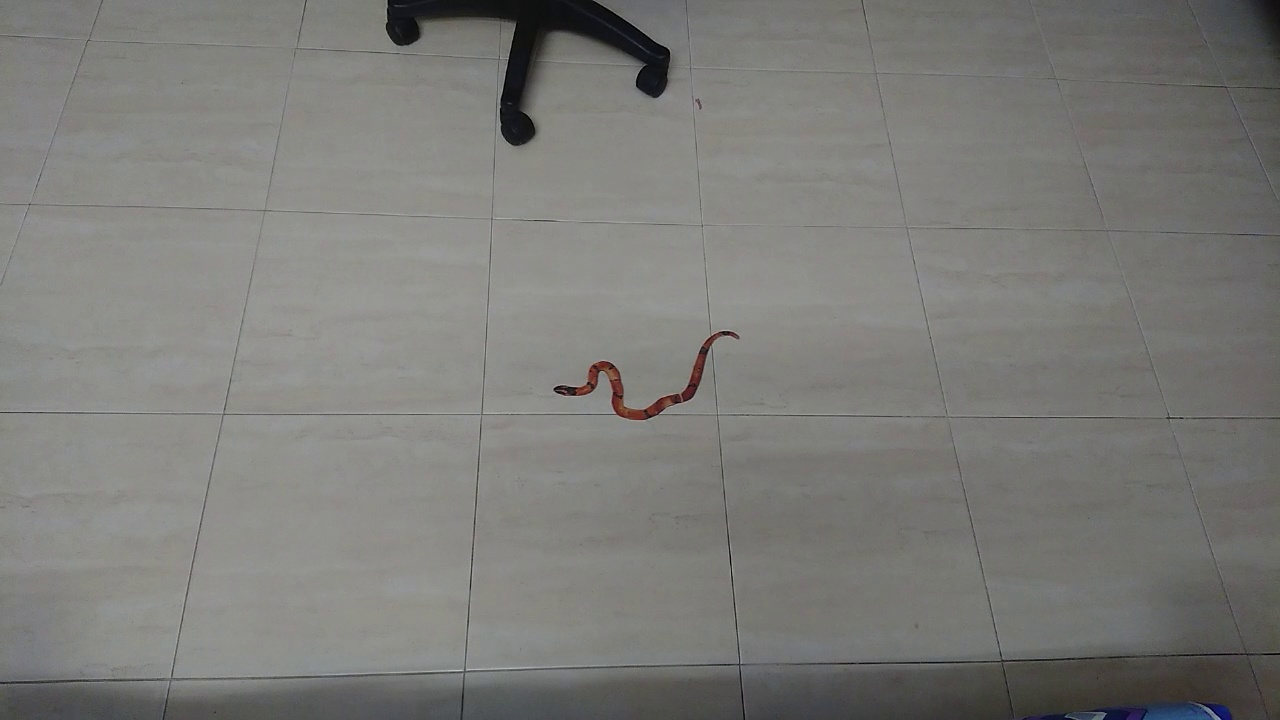snake: (529, 307, 759, 444)
